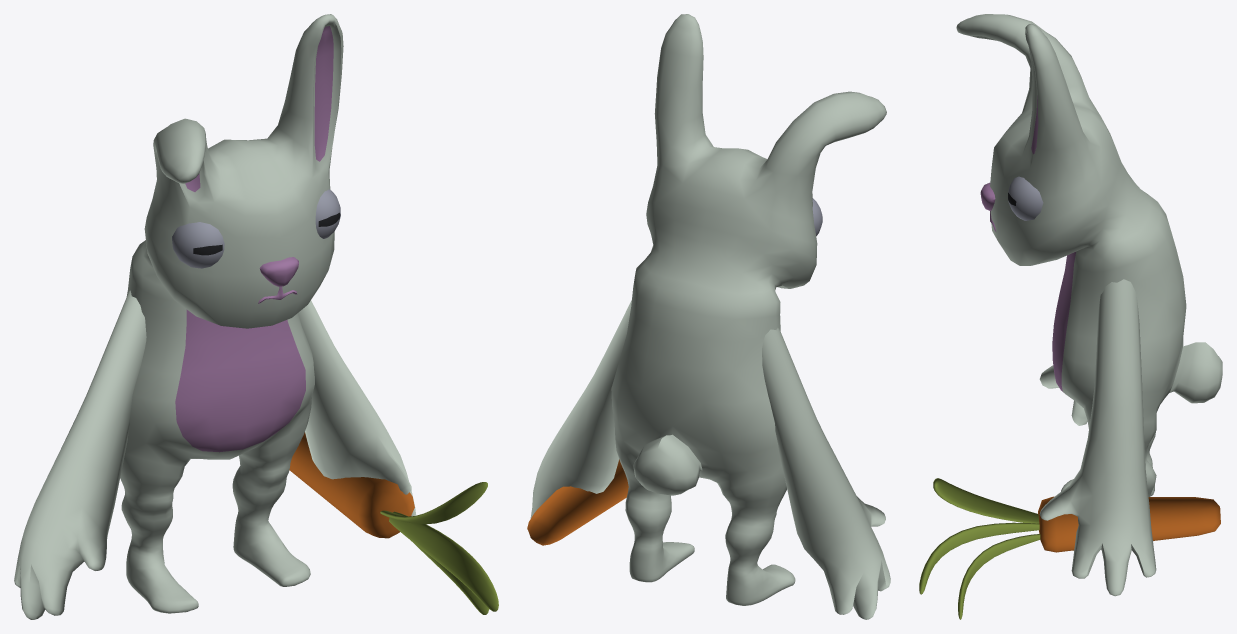
The model's file is Bunny.glb.
The picture shows the model from 3 angles, left to right: view 1: azimuth 30°, elevation 25°; view 2: azimuth 150°, elevation 25°; view 3: azimuth 270°, elevation 25°; orthographic projection. The views are drawn at different scales.
Parts seen in each view (by area): view 1: SK_Bunny; view 2: SK_Bunny; view 3: SK_Bunny.
Boxes of the visible parts, x1,y1,x2,y2 form: SK_Bunny: (14, 14, 498, 619); SK_Bunny: (527, 14, 890, 619); SK_Bunny: (919, 14, 1222, 619).
Bounding box in the file's own units: 2.37 × 3.56 × 1.81.
Materials: 1 (1 with a texture image).
